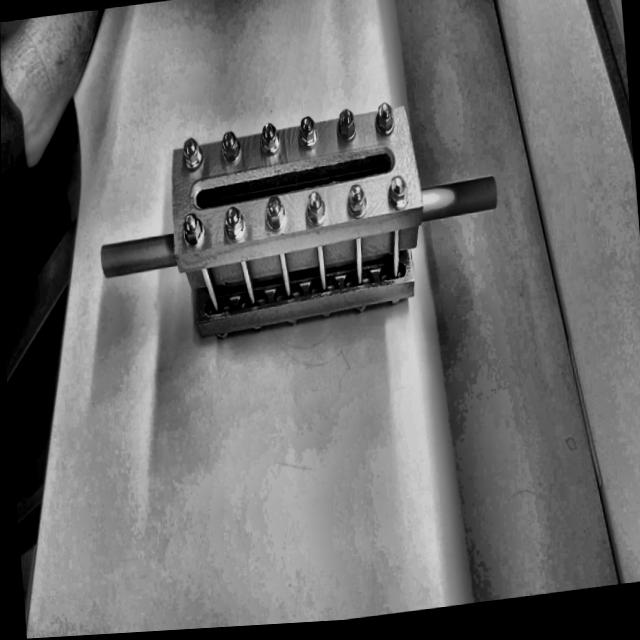ShuiWeiQi_12: (74, 39, 549, 381)
